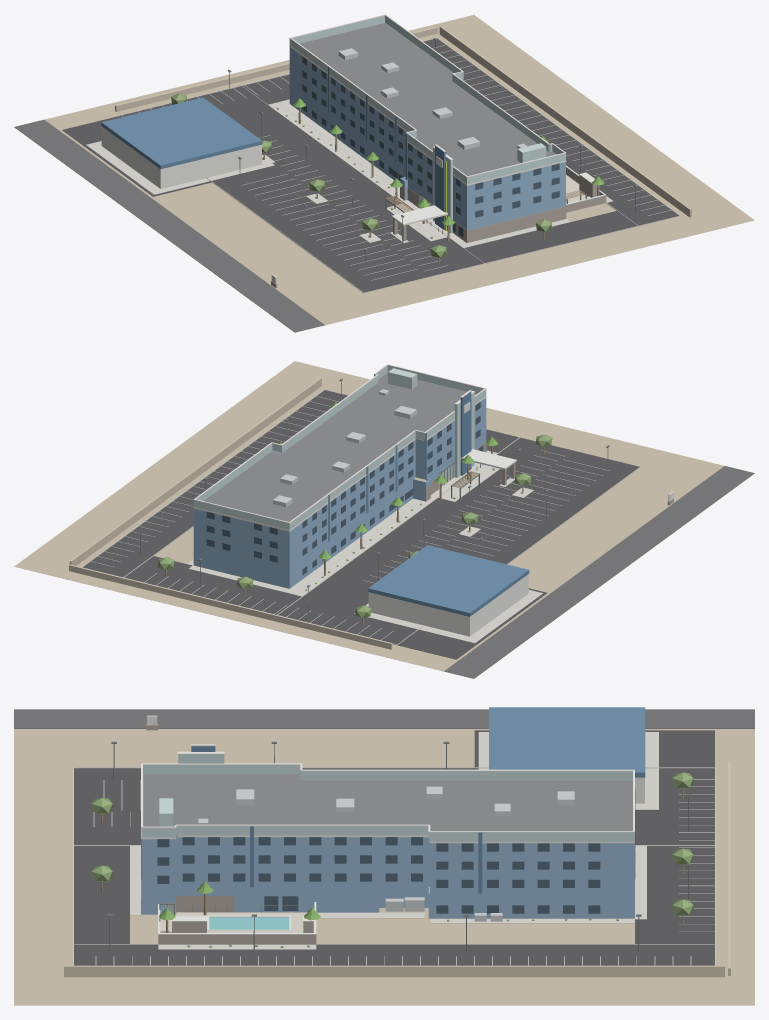
Rendered from site-context.glb.
The picture shows the model from 3 angles, top to bottom: view 1: azimuth 30°, elevation 25°; view 2: azimuth 150°, elevation 25°; view 3: azimuth 270°, elevation 25°; orthographic projection. The views are drawn at different scales.
Visible parts, largest first — view 1: Ground, Asphalt, Roof_Slab, Road_US277, Tower_Body, Restaurant_Band, Perimeter_Wall, Parapet, Restaurant, F1_Shell, Windows_Upper, Stall_Stripes (+13 smaller); view 2: Asphalt, Ground, Roof_Slab, Tower_Body, Road_US277, Restaurant_Band, Perimeter_Wall, F1_Shell, Parapet, Restaurant, Windows_Upper, Stall_Stripes (+11 smaller); view 3: Ground, Asphalt, Roof_Slab, Tower_Body, Road_US277, Restaurant_Band, F1_Shell, Parapet, Perimeter_Wall, Windows_Upper, Coping, Gravel_Beds (+15 smaller).
Part boxes in pixels (x1,y1,x2,y2): Ground: [44, 15, 754, 329]; Asphalt: [62, 38, 678, 292]; Roof_Slab: [299, 23, 555, 176]; Road_US277: [14, 119, 324, 332]; Tower_Body: [289, 22, 565, 223]; Restaurant_Band: [101, 97, 262, 169]; Perimeter_Wall: [115, 26, 691, 217]; Parapet: [289, 16, 565, 184]; Restaurant: [101, 126, 261, 188]; F1_Shell: [289, 85, 565, 230]; Windows_Upper: [302, 56, 559, 217]; Stall_Stripes: [138, 45, 670, 280]; Asphalt: [83, 390, 639, 659]; Ground: [14, 361, 723, 677]; Roof_Slab: [203, 373, 476, 521]; Tower_Body: [193, 372, 486, 569]; Road_US277: [444, 466, 754, 678]; Restaurant_Band: [368, 545, 529, 616]; Perimeter_Wall: [69, 378, 392, 649]; F1_Shell: [193, 435, 486, 588]; Parapet: [193, 365, 486, 530]; Restaurant: [368, 574, 528, 636]; Windows_Upper: [206, 402, 480, 562]; Stall_Stripes: [91, 396, 609, 640]; Ground: [14, 729, 754, 1005]; Asphalt: [74, 730, 714, 965]; Roof_Slab: [143, 774, 632, 836]; Tower_Body: [141, 774, 634, 893]; Road_US277: [14, 709, 754, 728]; Restaurant_Band: [489, 707, 645, 777]; F1_Shell: [141, 887, 634, 918]; Parapet: [141, 765, 634, 841]; Perimeter_Wall: [64, 761, 730, 977]; Windows_Upper: [141, 789, 635, 887]; Coping: [141, 763, 634, 832]; Gravel_Beds: [158, 845, 646, 949].
Size of the model in its own units: 350 by 61.88 by 370.
